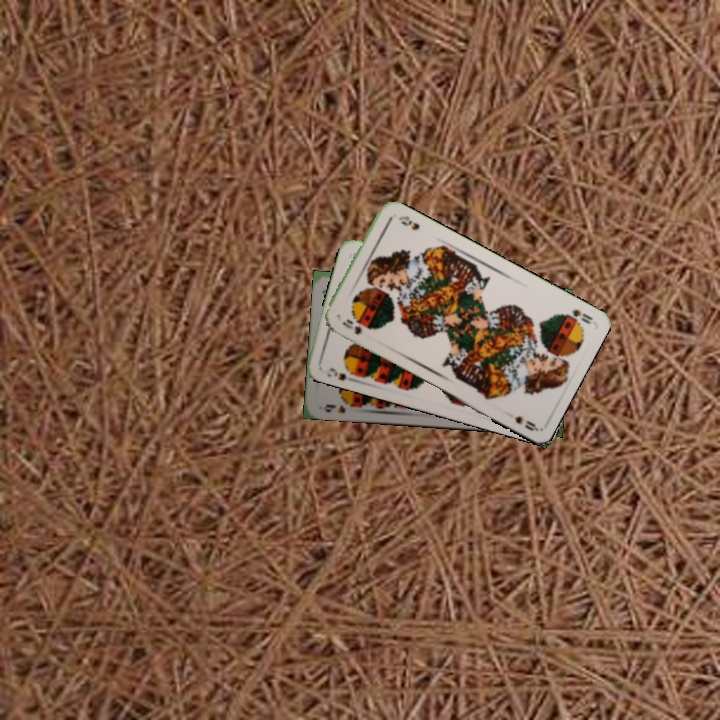S9: (325, 363, 360, 385), (321, 397, 359, 415)
SO: (568, 305, 596, 327), (338, 315, 364, 337)
